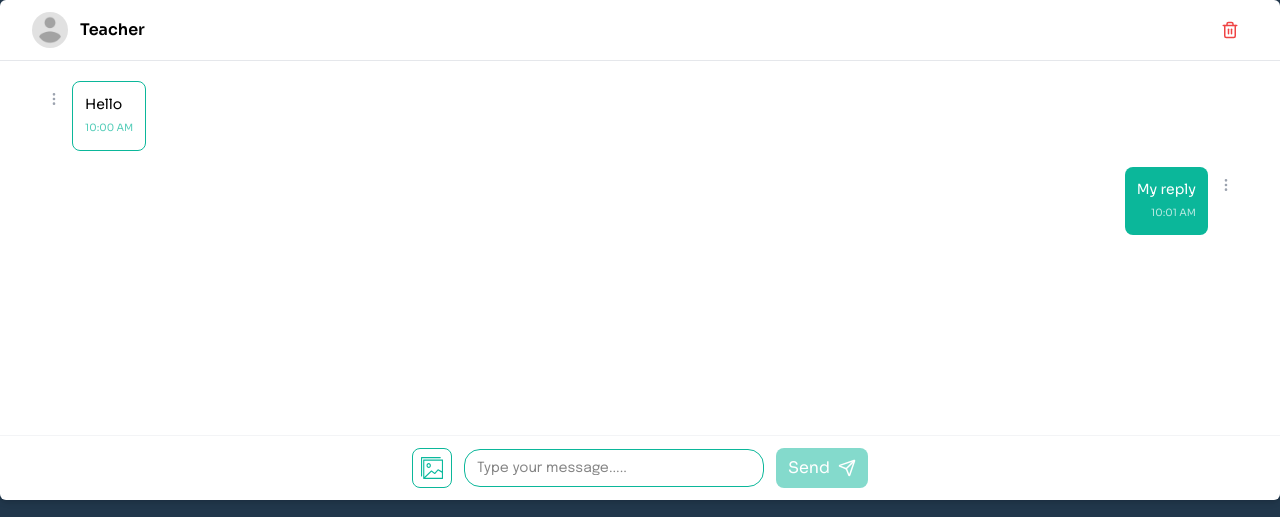
Test case: ChatWindow accessibility › exposes sender-safe delete options for messages
Click the button named "Message options" next to "Hello" at (54, 99), box [40, 85, 68, 113]
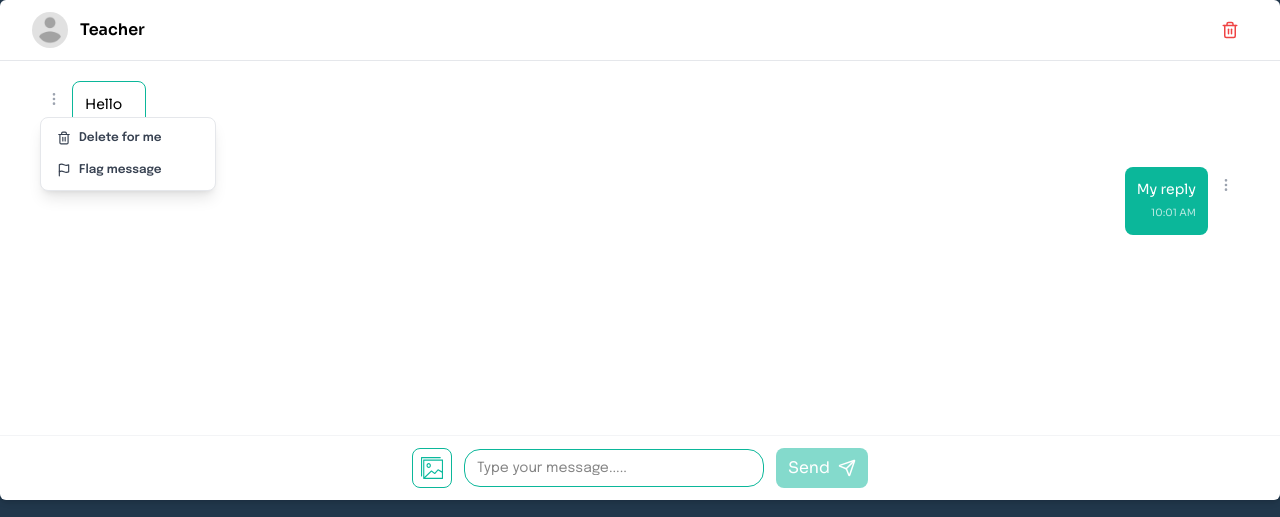
expect the button "Delete for everyone" is not shown: met
expect the button "Delete for me" is shown: met, box [45, 122, 211, 154]
expect the button "Flag message" is shown: met, box [45, 154, 211, 186]
Click the button named "Message options" next to "My reply" at (1226, 185), box [1212, 171, 1240, 199]
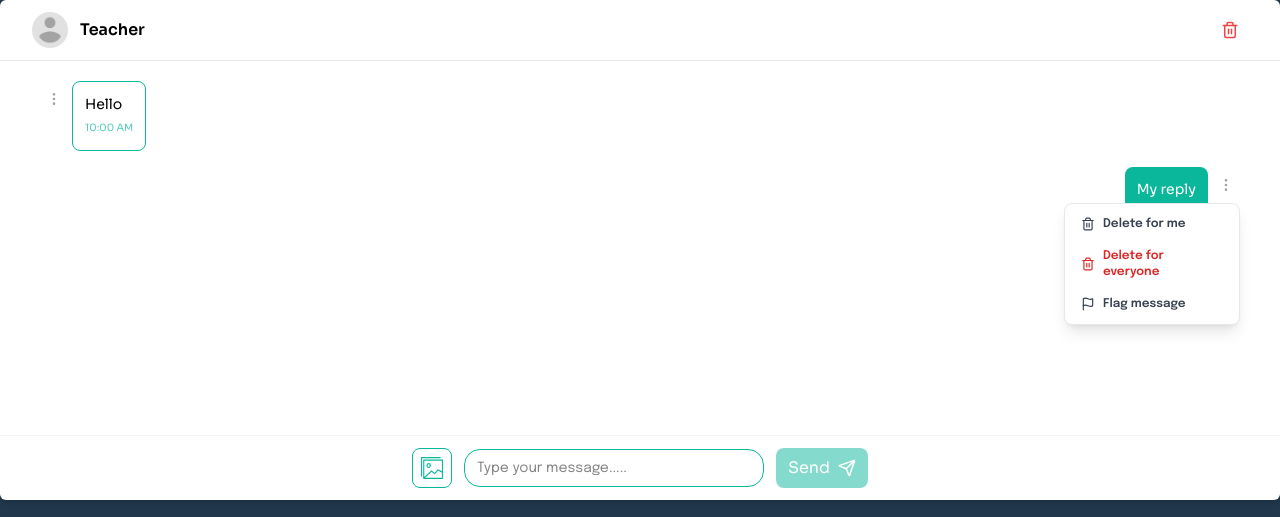
expect the button "Delete for everyone" is shown: met, box [1069, 240, 1235, 288]
